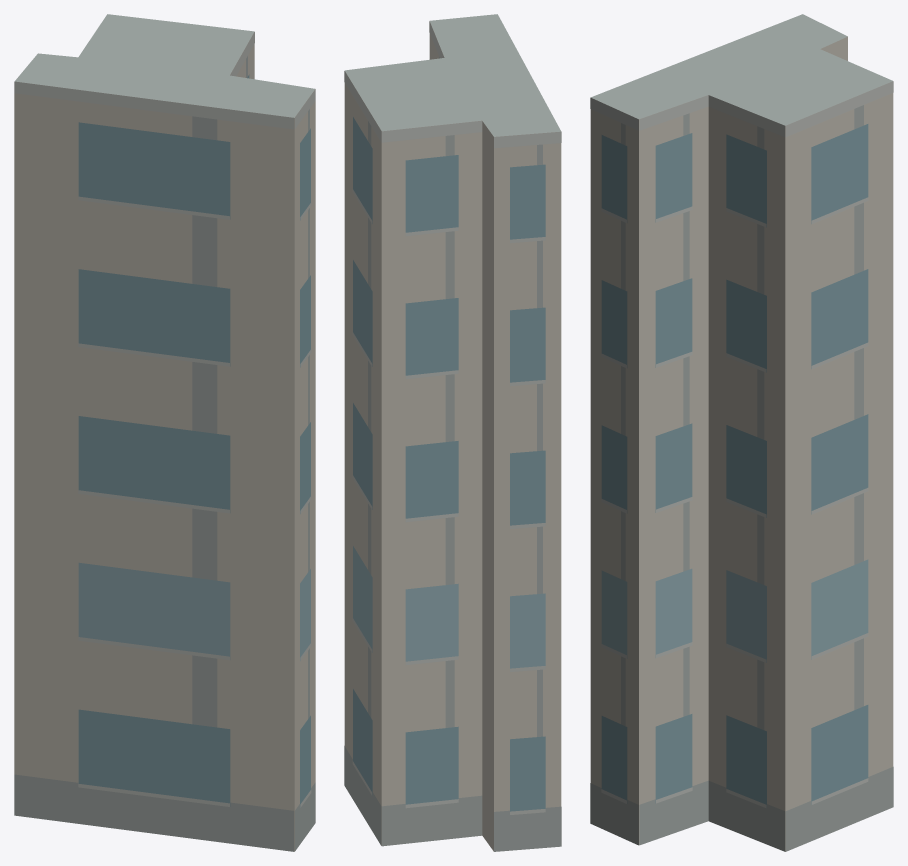
The model's file is survey-upis-32984463.glb.
3 views of the same model, side by side, from view 1: azimuth 30°, elevation 25°; view 2: azimuth 150°, elevation 25°; view 3: azimuth 270°, elevation 25° (orthographic). The views are drawn at different scales.
Visible parts, largest first — view 1: survey-upis-32984463.tmp; view 2: survey-upis-32984463.tmp; view 3: survey-upis-32984463.tmp.
Part boxes in pixels (<box>): survey-upis-32984463.tmp: <box>14,14,315,851</box>; survey-upis-32984463.tmp: <box>344,14,561,851</box>; survey-upis-32984463.tmp: <box>590,14,893,851</box>.
Bounding box in the file's own units: 5.04 × 15.25 × 5.78.
